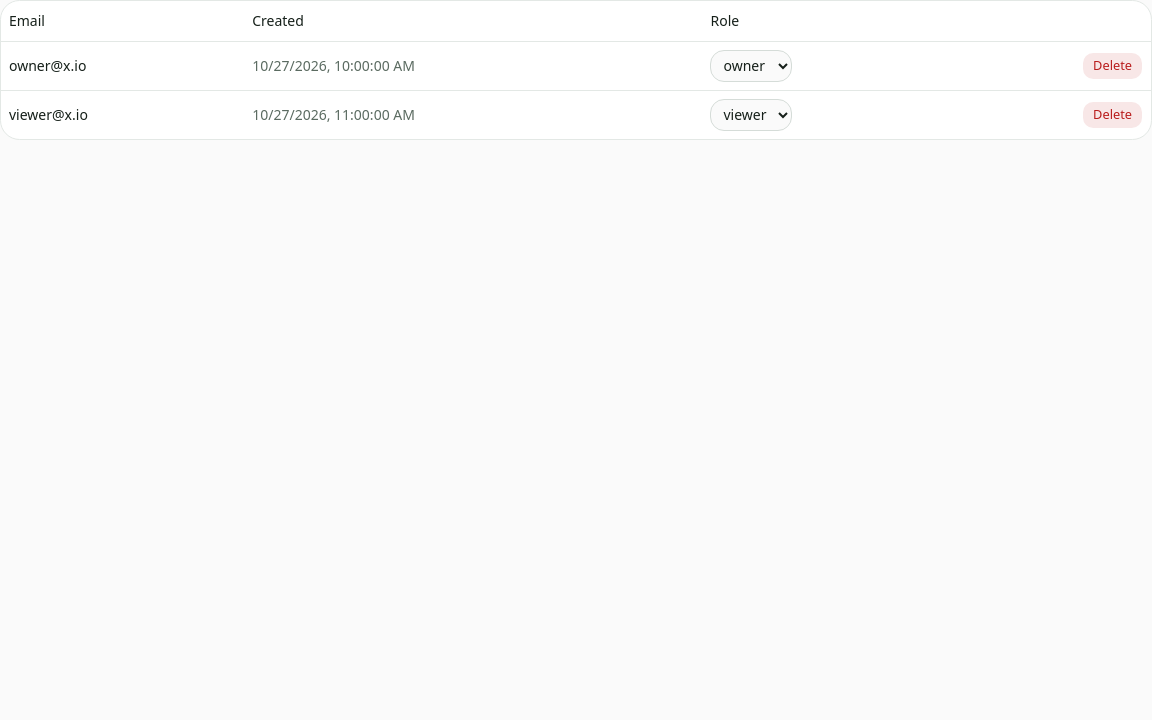
it: the default delete confirmation is a dialog: cancel sends nothing, confirm deletes
The width and height of the screenshot is (1152, 720).
Expected: the text "viewer@x.io" is shown, 1,90 -> 244,138
Click the button with aria-label "Delete viewer@x.io" at x=1113, y=114, box 1082,100 -> 1143,128
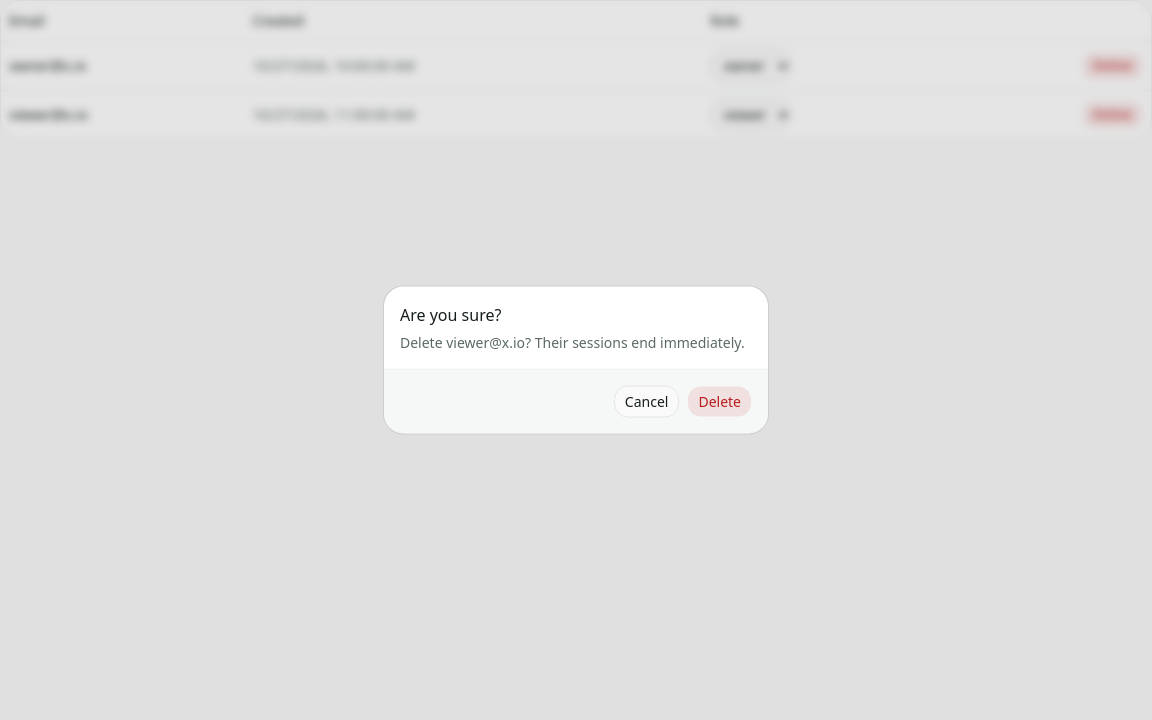
Now the dialog shows "viewer@x.io", box 400,332 -> 745,352
Click the button "Cancel" at x=647, y=402, box 614,386 -> 679,418
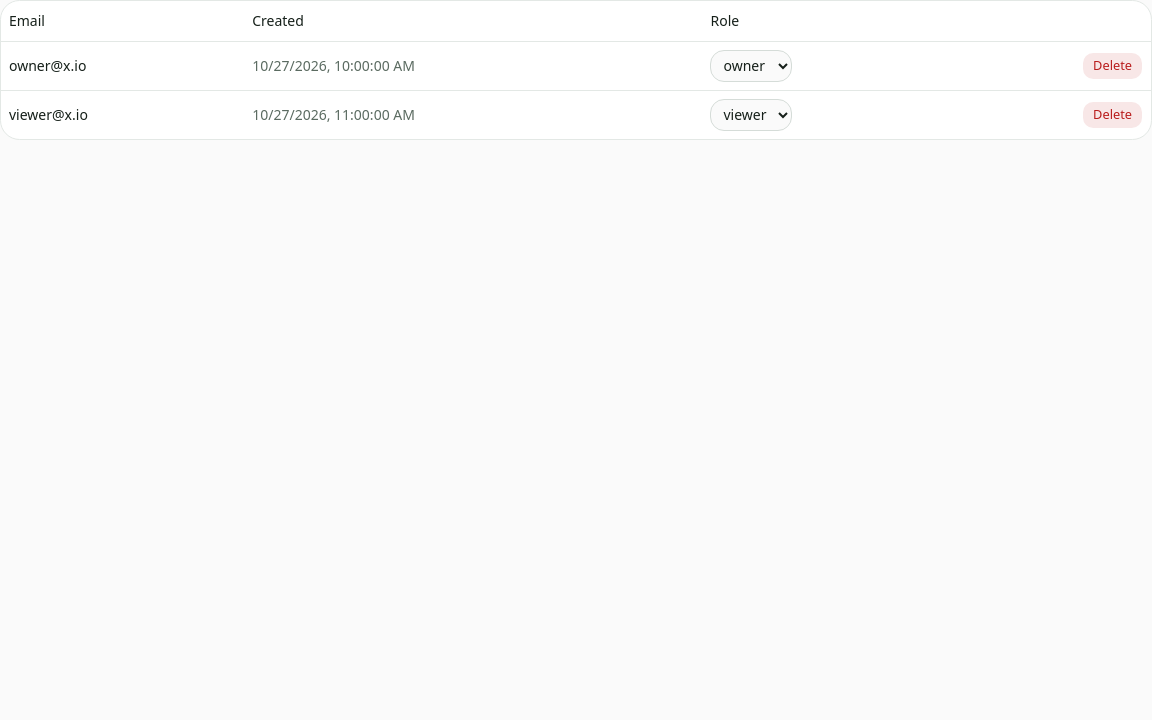
Now the dialog is gone
Click the button with aria-label "Delete viewer@x.io" at x=1113, y=114, box 1082,100 -> 1143,128
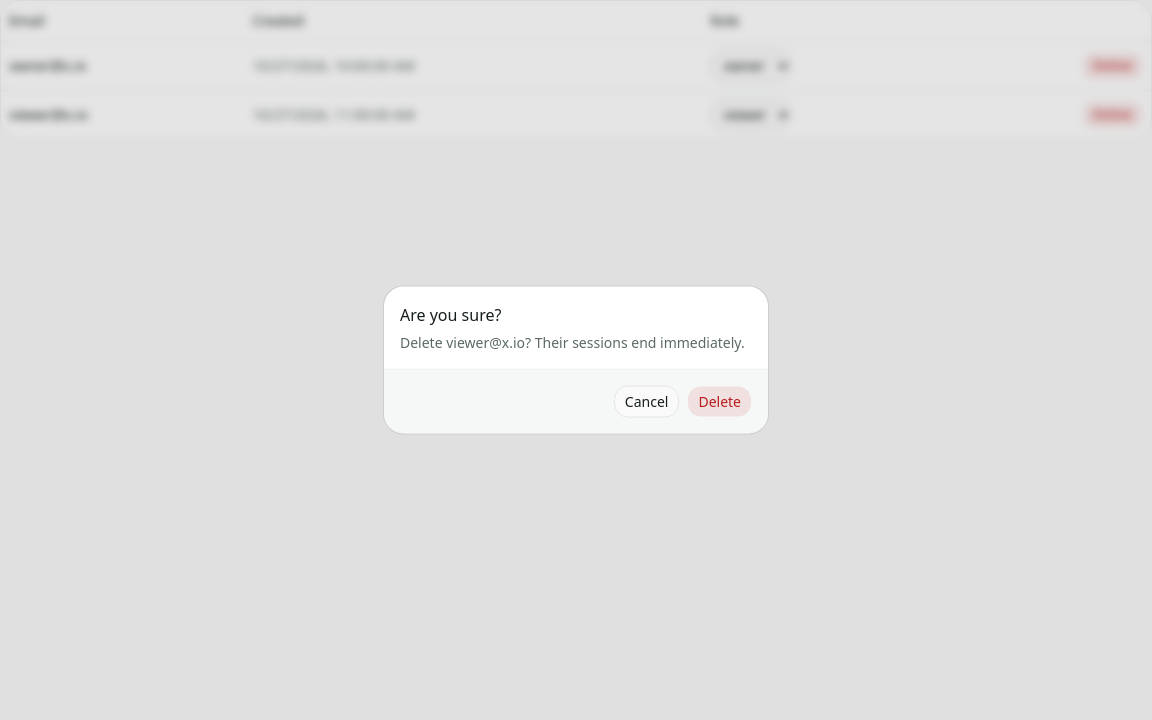
Click the button "Delete" at x=720, y=402, box 687,386 -> 752,418
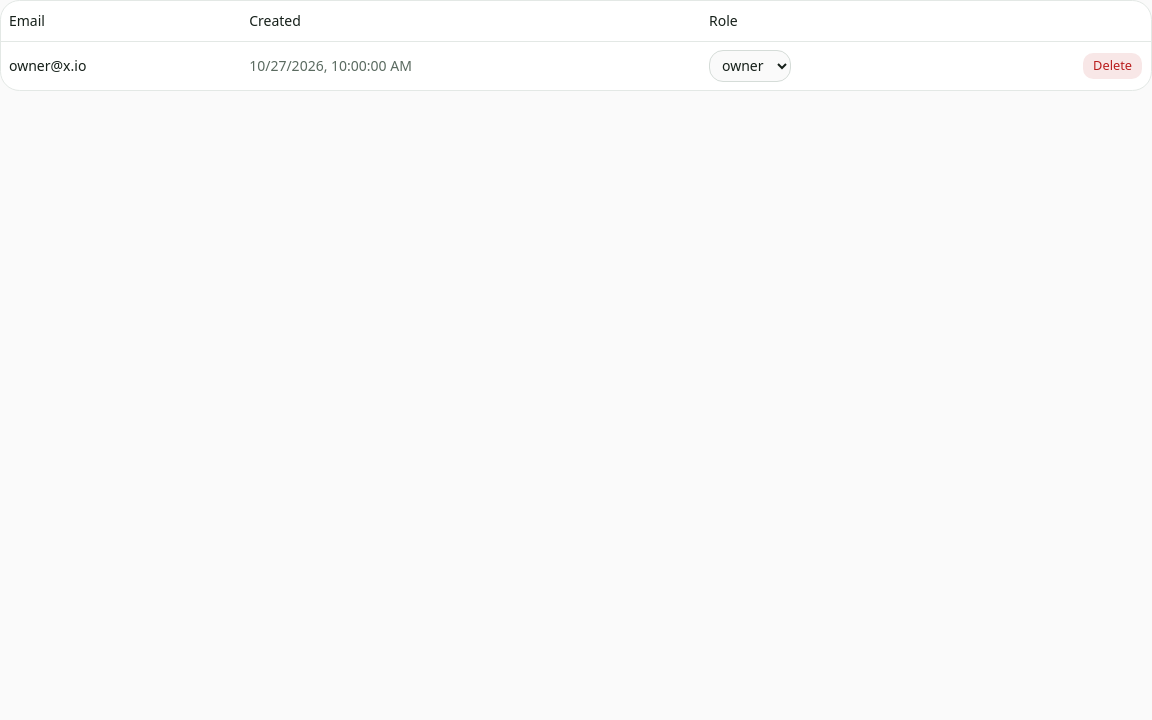
Now the text "viewer@x.io" is gone
